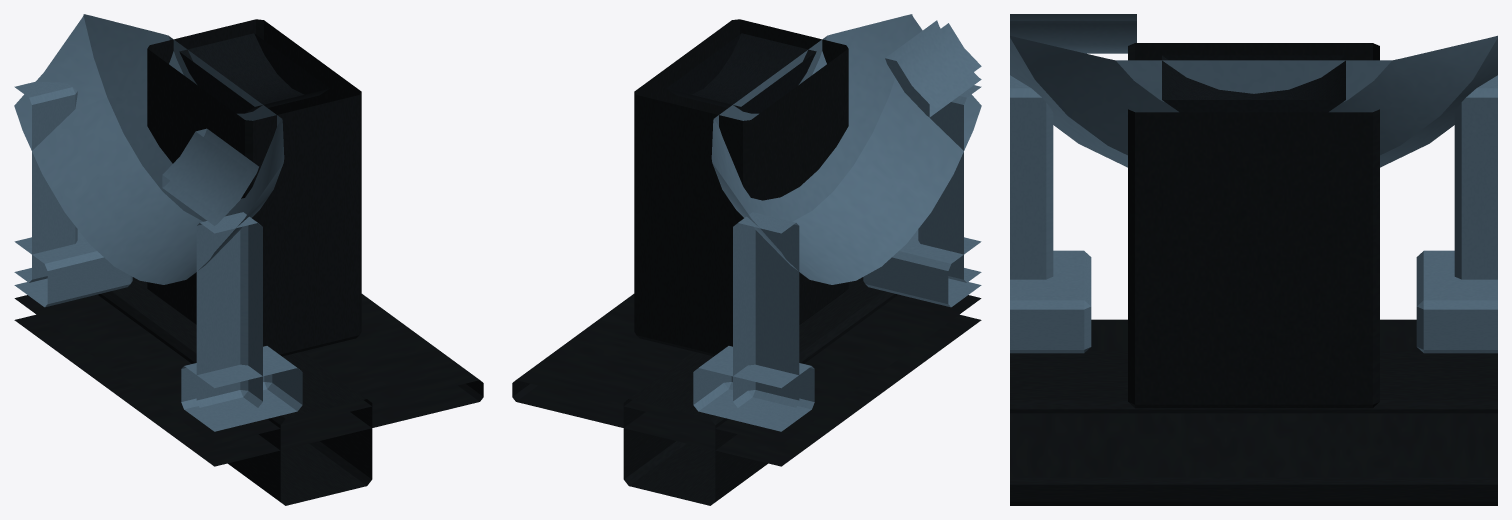
Rendered from cell_13.obj.
3 views of the same model, side by side, from view 1: azimuth 30°, elevation 25°; view 2: azimuth 150°, elevation 25°; view 3: azimuth 270°, elevation 25° (orthographic). The views are drawn at different scales.
Parts seen in each view (by area): view 1: cell_13; view 2: cell_13; view 3: cell_13.
Part boxes in pixels (x1,y1,x2,y2): cell_13: [14, 14, 483, 505]; cell_13: [512, 14, 981, 505]; cell_13: [1010, 14, 1497, 505].
Bounding box in the file's own units: 0.776 × 0.952 × 1.
